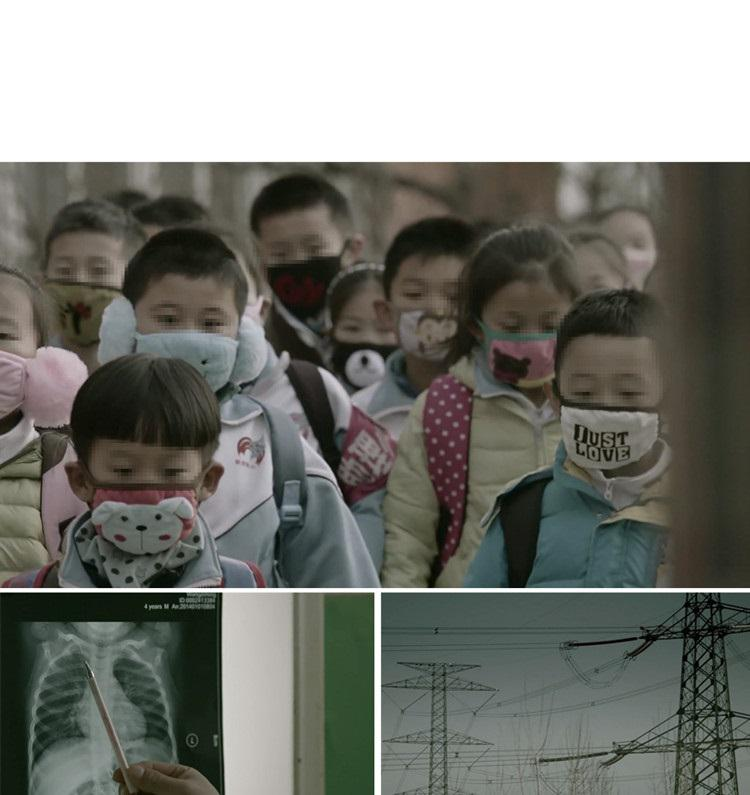OK: (88, 446, 192, 550), (559, 366, 658, 465), (139, 295, 235, 391), (257, 232, 347, 315), (47, 252, 129, 341), (396, 274, 481, 358), (488, 305, 569, 385), (333, 311, 408, 388), (1, 305, 41, 418), (607, 223, 657, 288)
